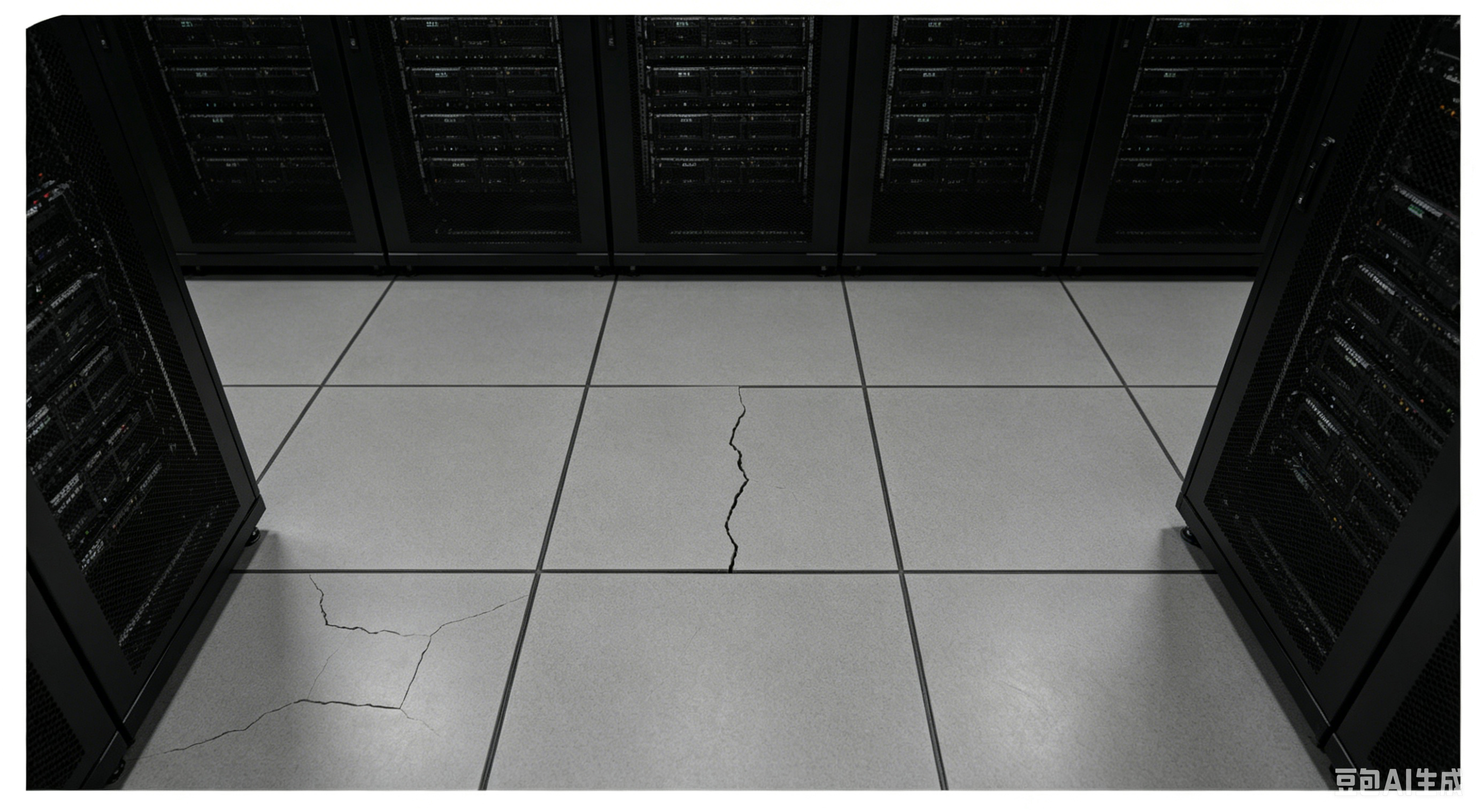floor_defect: (262, 681, 400, 736), (715, 388, 756, 571), (300, 565, 396, 643), (156, 713, 266, 758), (399, 599, 433, 731), (439, 597, 530, 634)
